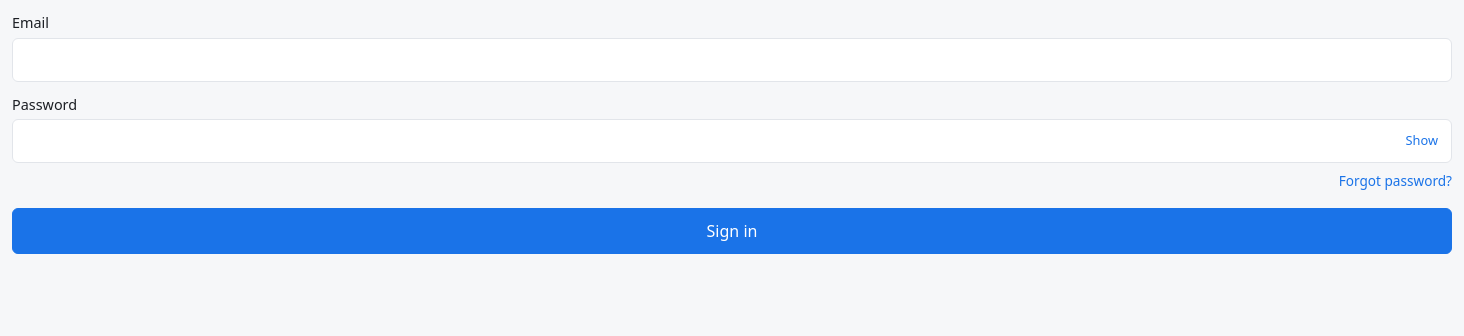
EmailSignInForm › shows the right message for email_not_verified and clears the password
Type "a@b.com" into the field labelled "Email" at (732, 60), box [12,38,1452,82]
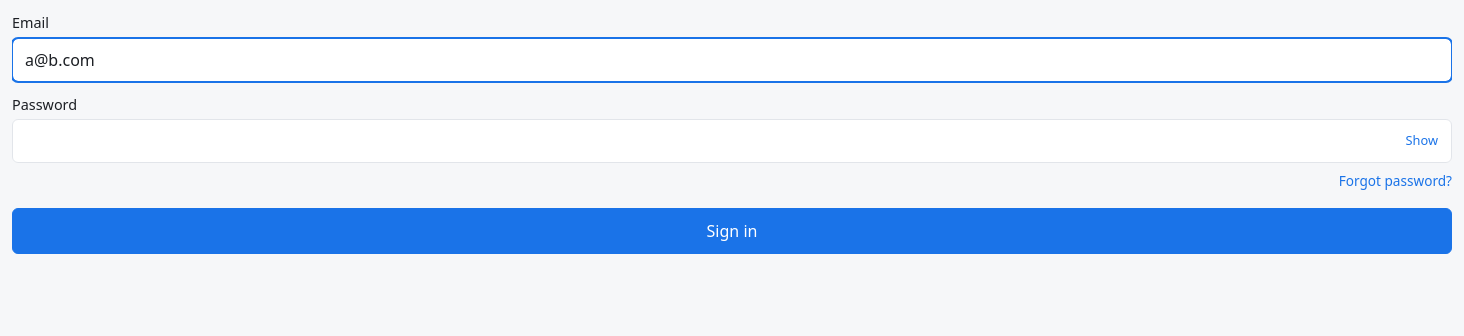
Type "secret password" into the password field labelled "Password" at (732, 141), box [12,119,1452,163]
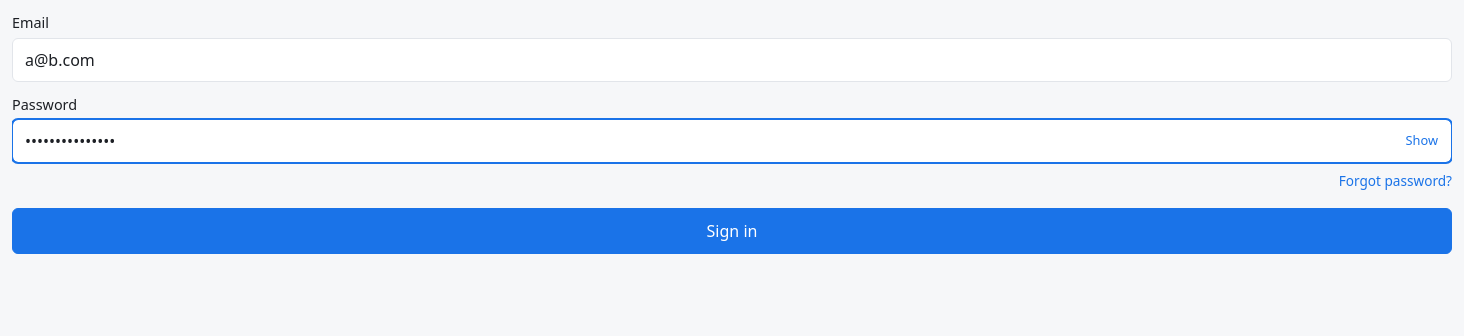
Click the button "Sign in" at (732, 231), box [12,208,1452,254]
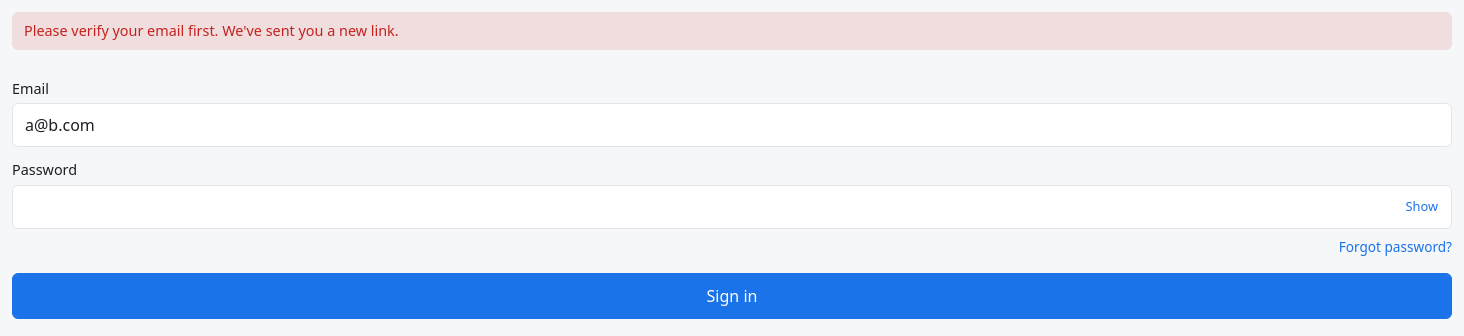
Expected: the button "Sign in" is enabled, [12,273,1452,319]
Expected: the message reads "Please verify your email first. We've sent you a new link.", [24,21,399,40]
Expected: the password field labelled "Password" is empty, [12,185,1452,229]
